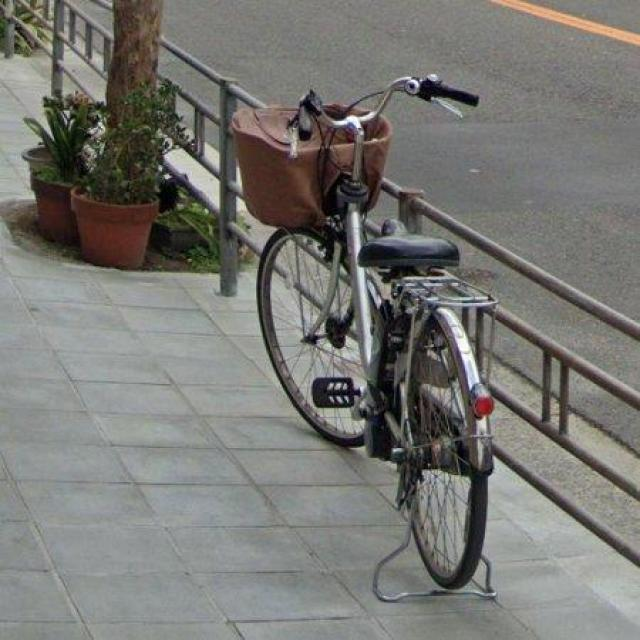bicycle: (233, 77, 499, 591)
